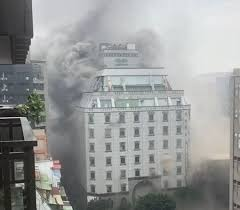smoke: (190, 1, 228, 207), (46, 1, 85, 162), (86, 1, 188, 46)
